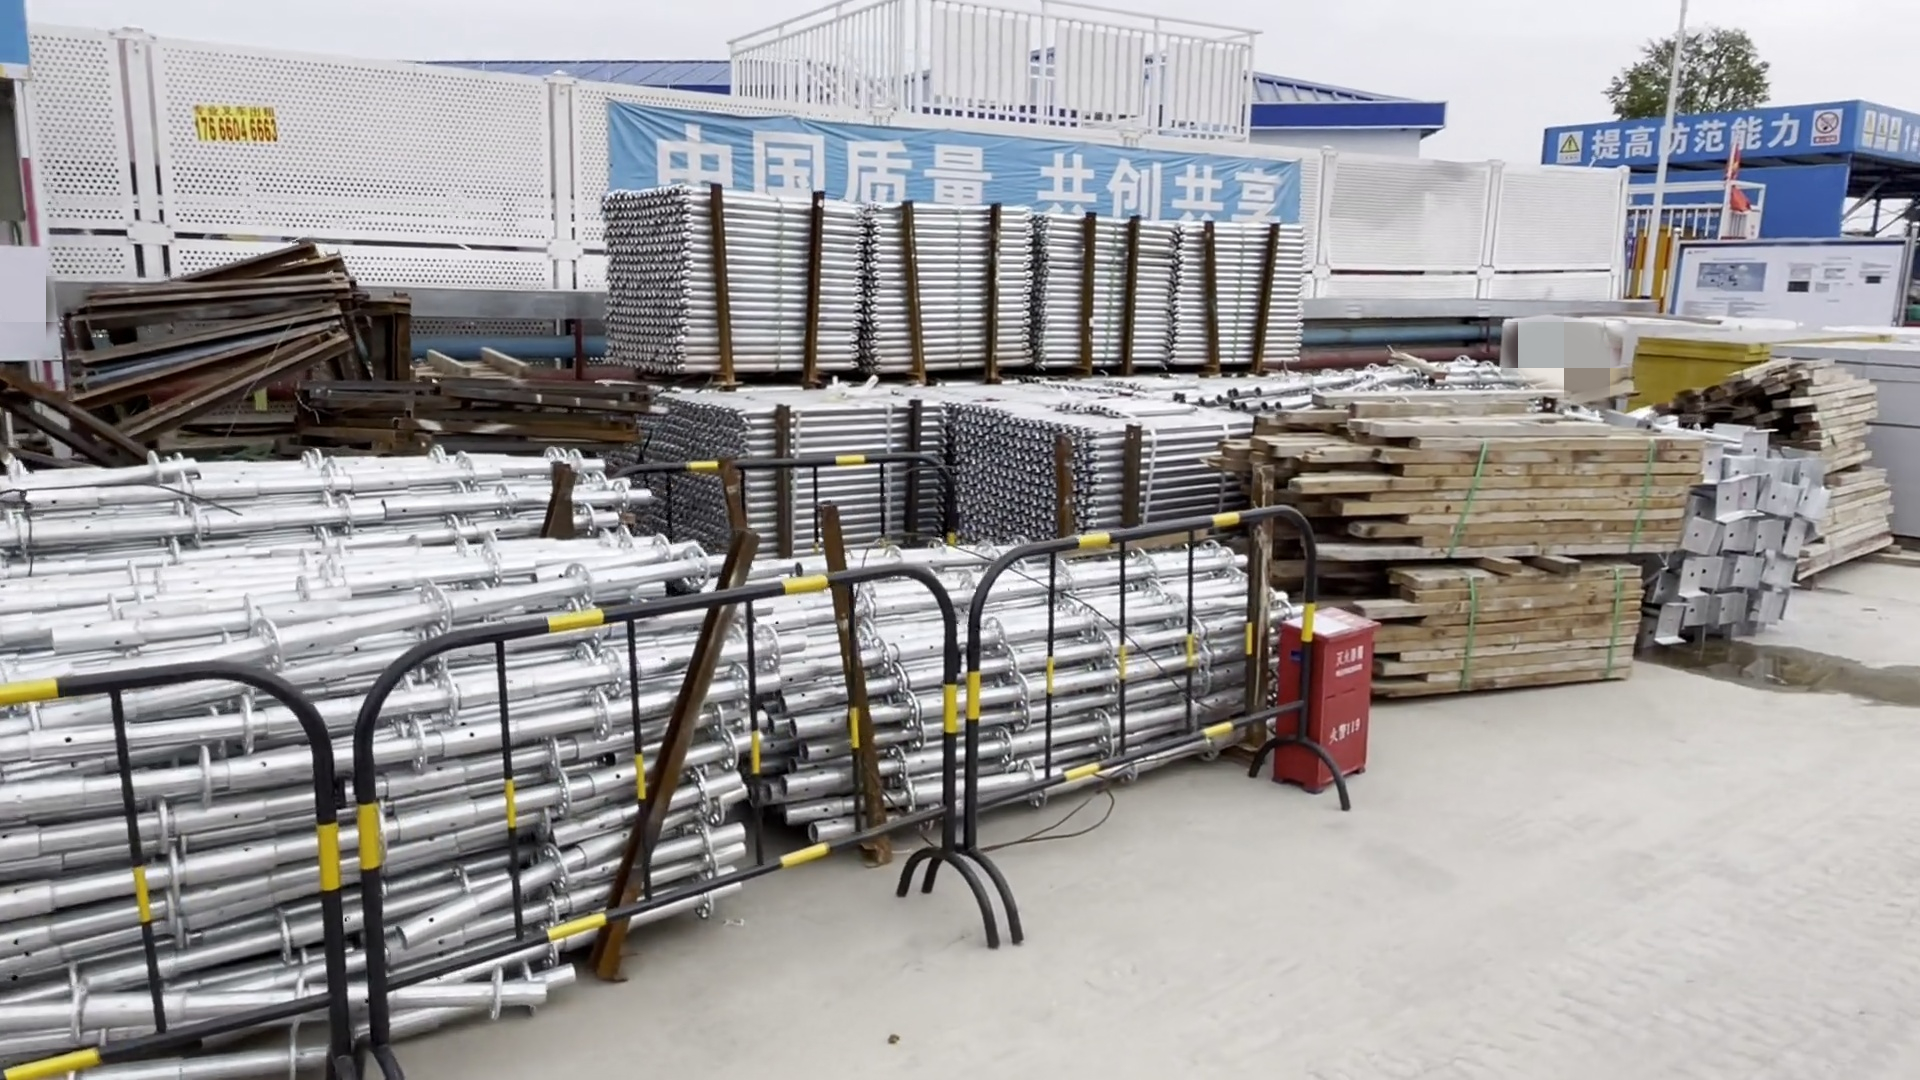scaffold: (4, 464, 1291, 1075), (597, 203, 1332, 564)
slogan: (607, 102, 1317, 266), (1557, 107, 1855, 167)
wood: (1331, 401, 1688, 731), (1763, 363, 1886, 568)
